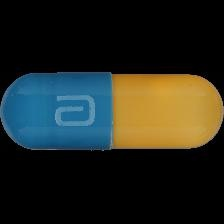0074-9189: (0, 0, 224, 224)
